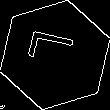L_E: (26, 34, 84, 76)
